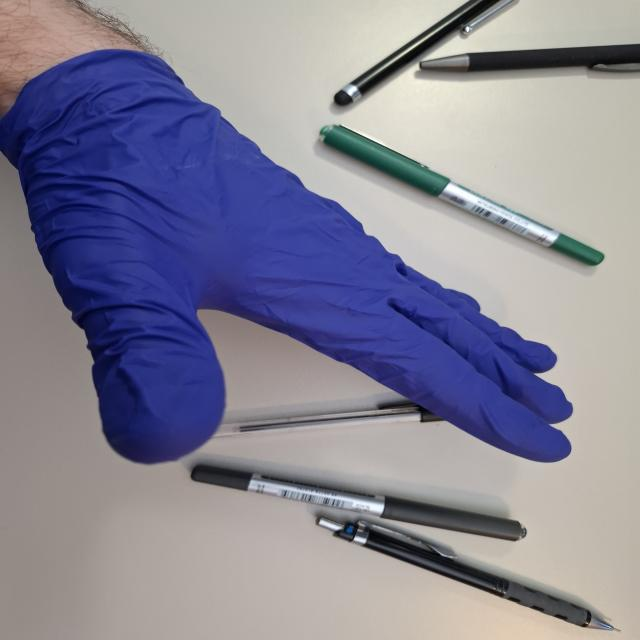glove_on: (0, 46, 580, 467)
